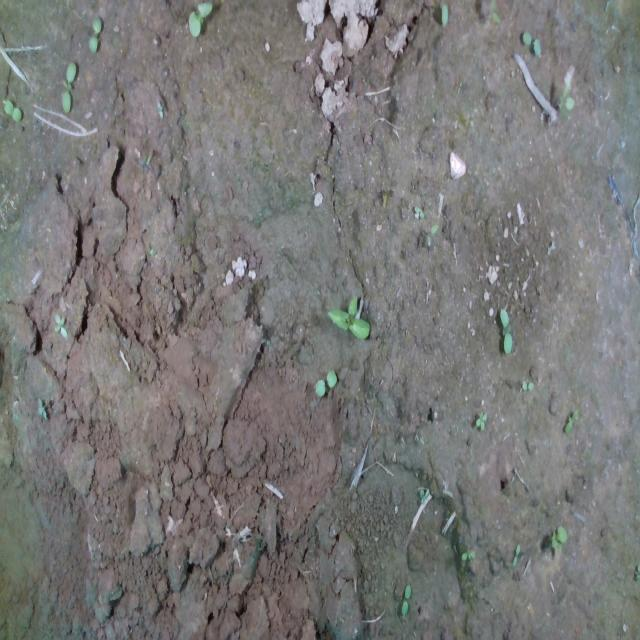weed: (326, 292, 370, 340), (186, 0, 212, 38), (60, 59, 76, 113), (314, 368, 338, 398), (499, 306, 512, 357), (88, 14, 102, 55), (521, 29, 541, 57), (3, 97, 23, 124), (549, 524, 567, 550), (563, 407, 579, 432), (53, 312, 67, 340), (401, 582, 411, 617), (473, 410, 487, 433), (36, 394, 48, 420), (460, 547, 476, 561), (512, 541, 520, 567), (414, 204, 424, 222), (521, 380, 535, 390)
